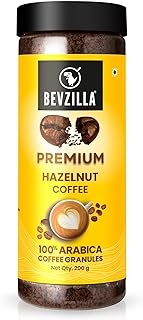Coffee: (17, 3, 129, 310)
